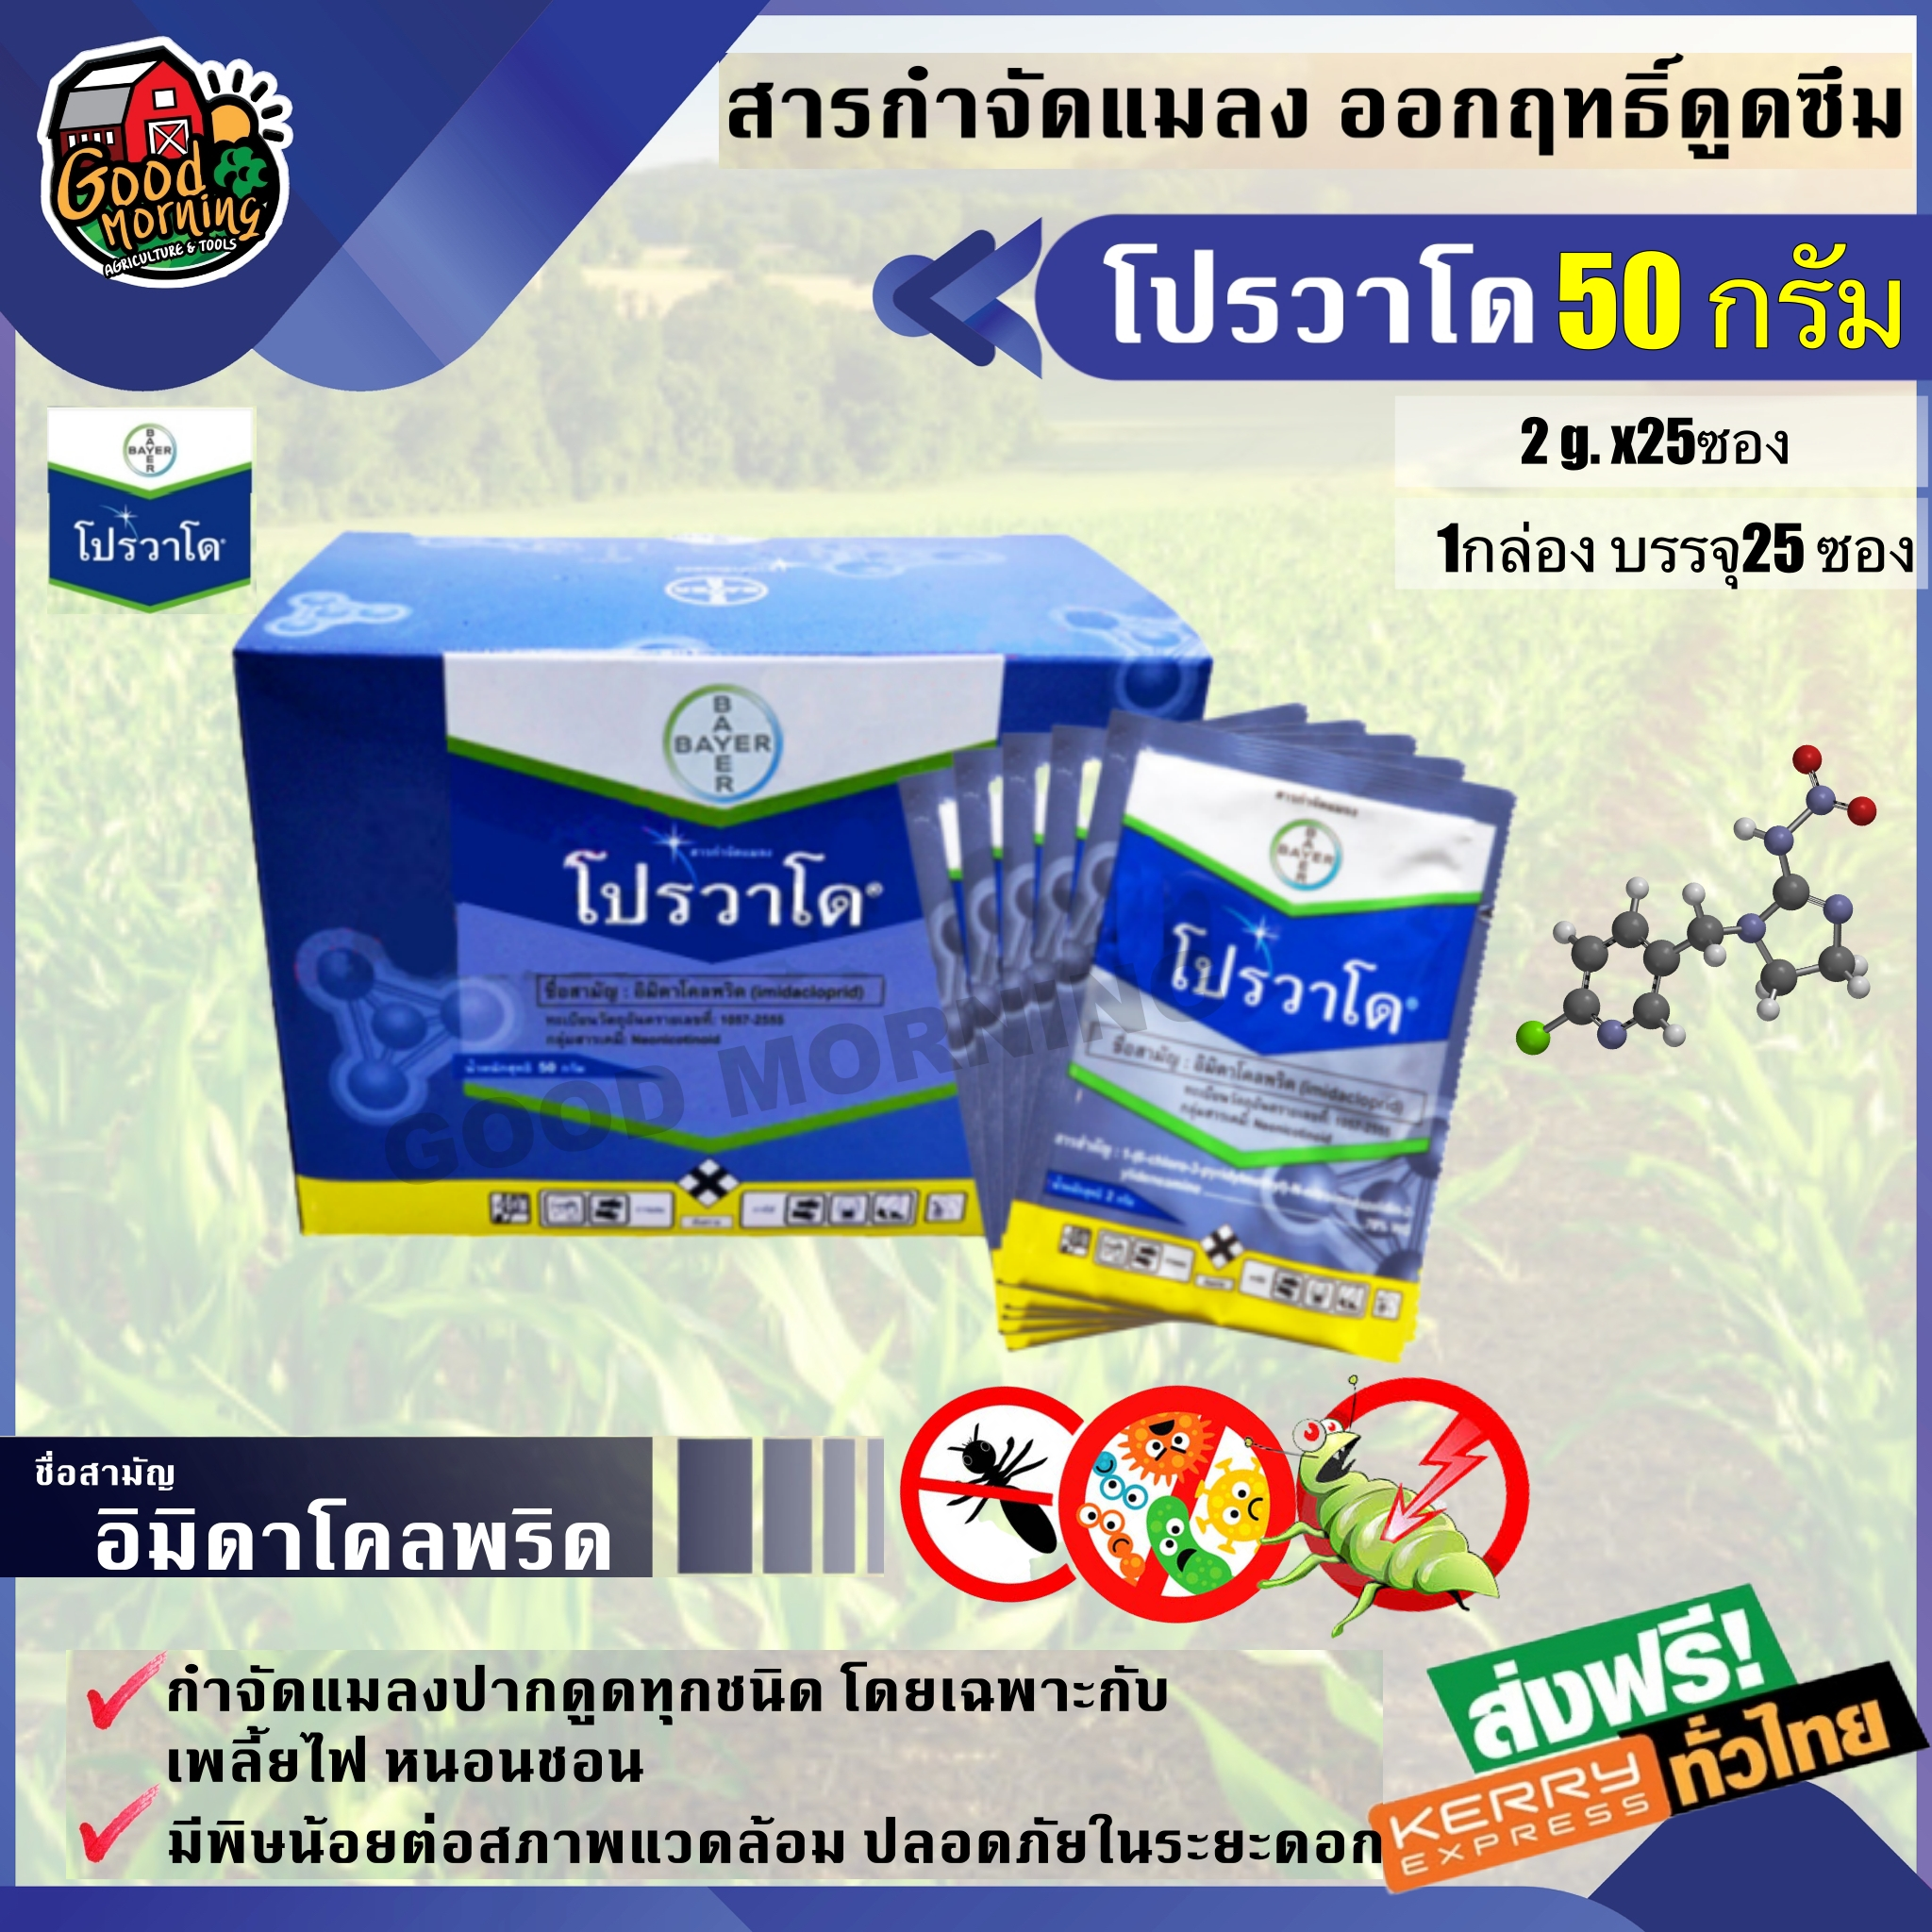Insecticide: (1007, 704, 1527, 1371)
